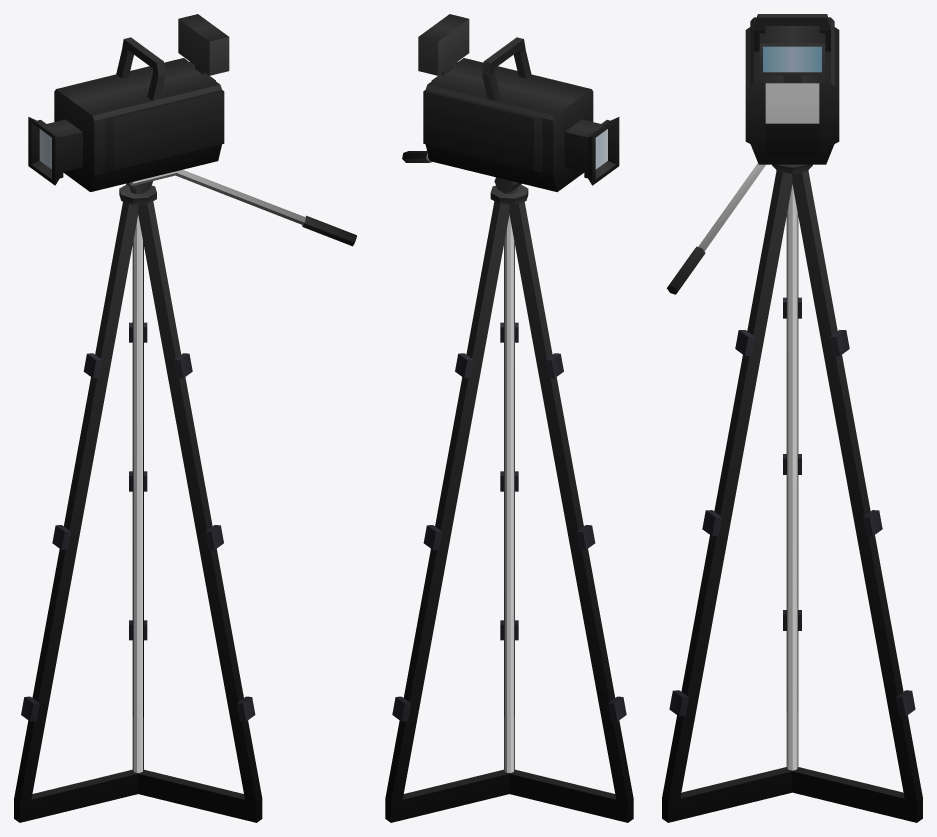
Rendered from camera_1.glb.
3 views of the same model, side by side, from view 1: azimuth 30°, elevation 25°; view 2: azimuth 150°, elevation 25°; view 3: azimuth 270°, elevation 25° (orthographic). The views are drawn at different scales.
Visible parts, largest first — view 1: camera_sub, camera_sub_body, camera_sub_roller; view 2: camera_sub, camera_sub_body, camera_sub_roller; view 3: camera_sub, camera_sub_body, camera_sub_roller.
Boxes of the visible parts, x1=… form: camera_sub: x1=14, y1=201, x2=262, y2=822; camera_sub_body: x1=28, y1=14, x2=356, y2=246; camera_sub_roller: x1=119, y1=181, x2=156, y2=772; camera_sub: x1=385, y1=201, x2=633, y2=822; camera_sub_body: x1=402, y1=14, x2=619, y2=192; camera_sub_roller: x1=490, y1=177, x2=528, y2=772; camera_sub: x1=662, y1=170, x2=922, y2=822; camera_sub_body: x1=667, y1=14, x2=839, y2=294; camera_sub_roller: x1=772, y1=164, x2=812, y2=770.
Size of the model in its own units: 0.3803 by 0.9574 by 0.2882.
Materials: 1 (1 with a texture image).
